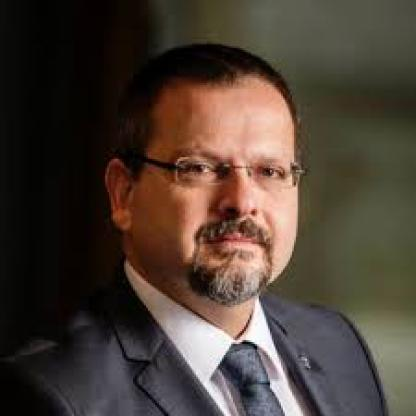person: (96, 48, 305, 302)
